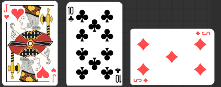10C: (67, 5, 75, 23)
9D: (132, 77, 149, 83), (194, 30, 211, 36)
